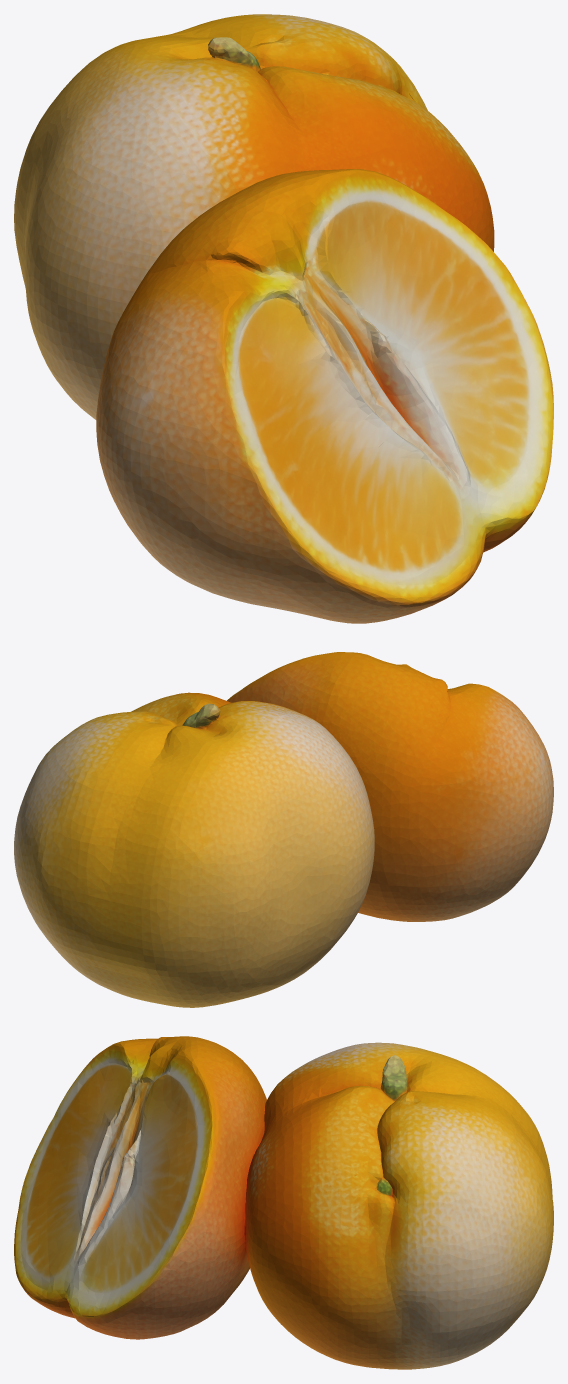
File: split-mandarin.glb
3 views of the same model, one above another, from view 1: azimuth 30°, elevation 25°; view 2: azimuth 150°, elevation 25°; view 3: azimuth 270°, elevation 25° (orthographic). The views are drawn at different scales.
Parts seen in each view (by area): view 1: world; view 2: world; view 3: world.
Part boxes in pixels (<box>): world: <box>14,14,553,623</box>; world: <box>14,652,553,1007</box>; world: <box>14,1036,553,1369</box>.
Bounding box in the file's own units: 0.7357 × 0.5444 × 0.9454.
1 material, 1 textured.
